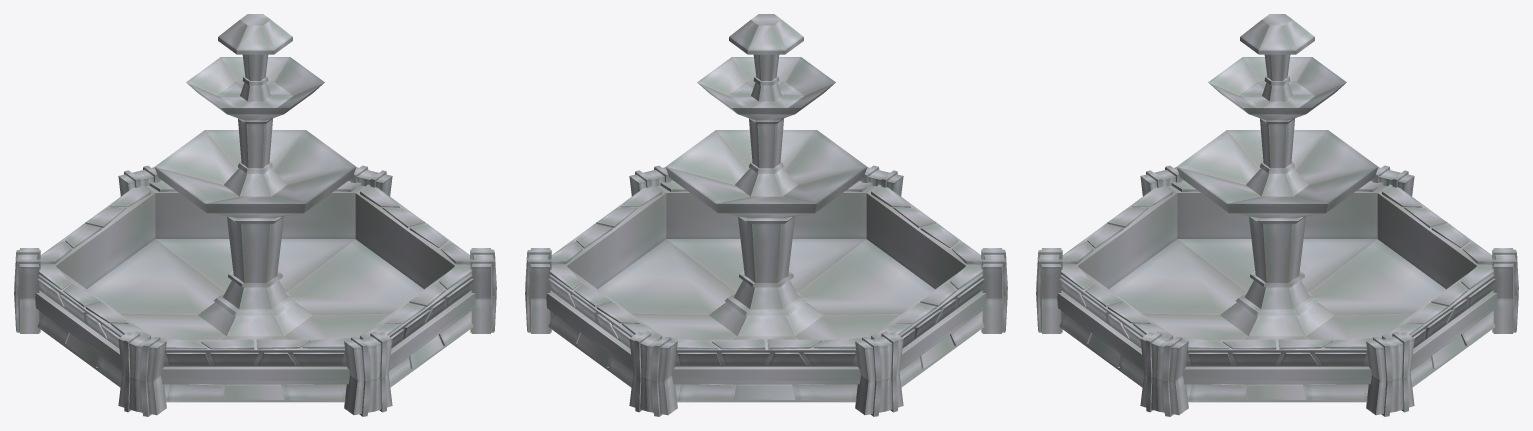
Rendered from fountain-basin.glb.
3 renders of one model, left to right at view 1: azimuth 30°, elevation 25°; view 2: azimuth 150°, elevation 25°; view 3: azimuth 270°, elevation 25°, orthographic.
Parts seen in each view (by area): view 1: fountain-basin; view 2: fountain-basin; view 3: fountain-basin.
Part boxes in pixels (box(x1,y1,x2,y2)): fountain-basin: box(14, 14, 496, 416); fountain-basin: box(525, 14, 1007, 416); fountain-basin: box(1036, 14, 1518, 416).
Bounding box in the file's own units: 4.44 × 3.5 × 4.99.
1 material, 1 textured.
